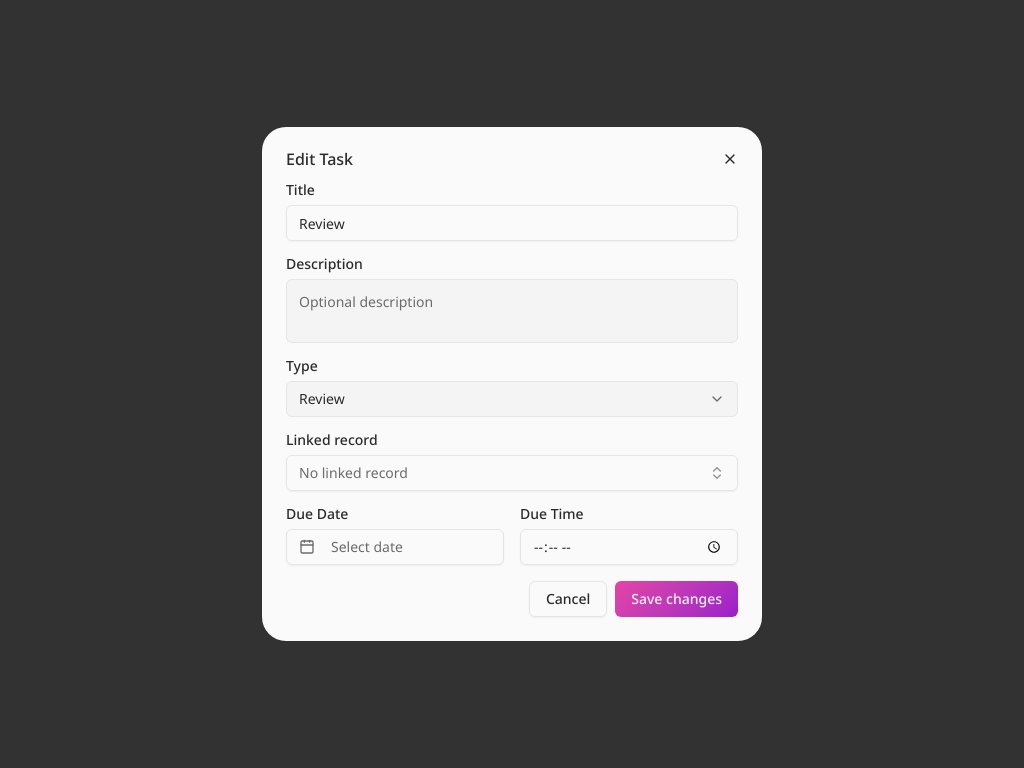
it: TaskEditModal related record › preserves edited values and shows a failed save
Replace the text in the field labelled "Title" with "Updated review" at (512, 223), box 286,205 -> 738,241
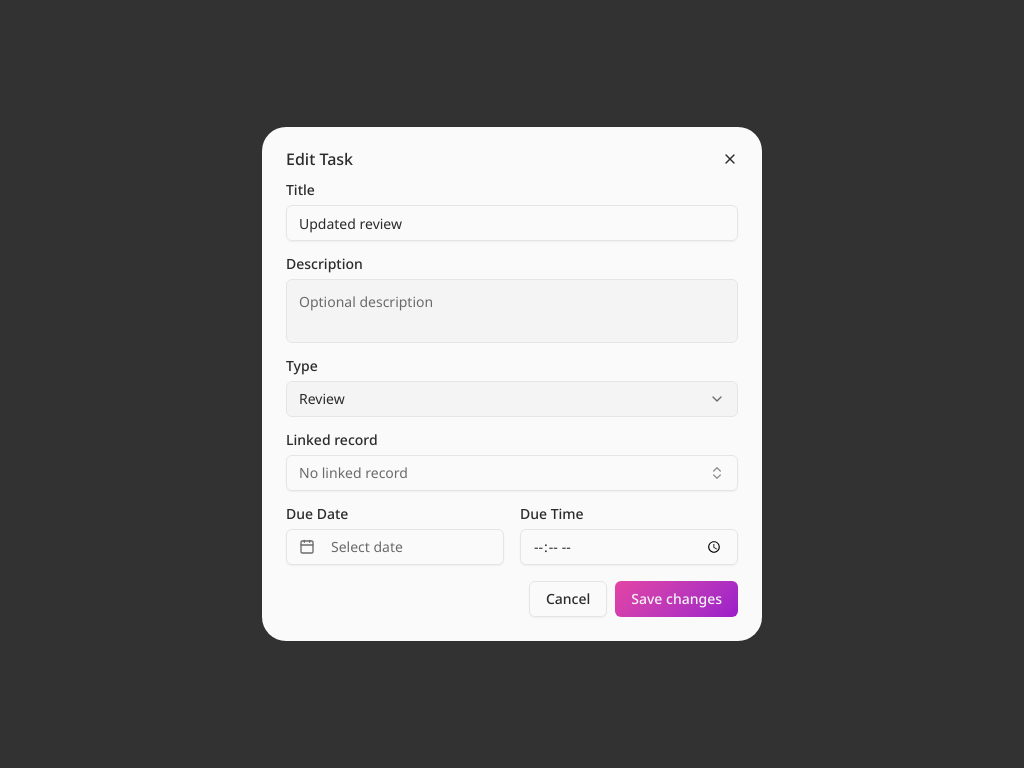
Click the button "Save changes" at (677, 599), box 615,581 -> 738,617
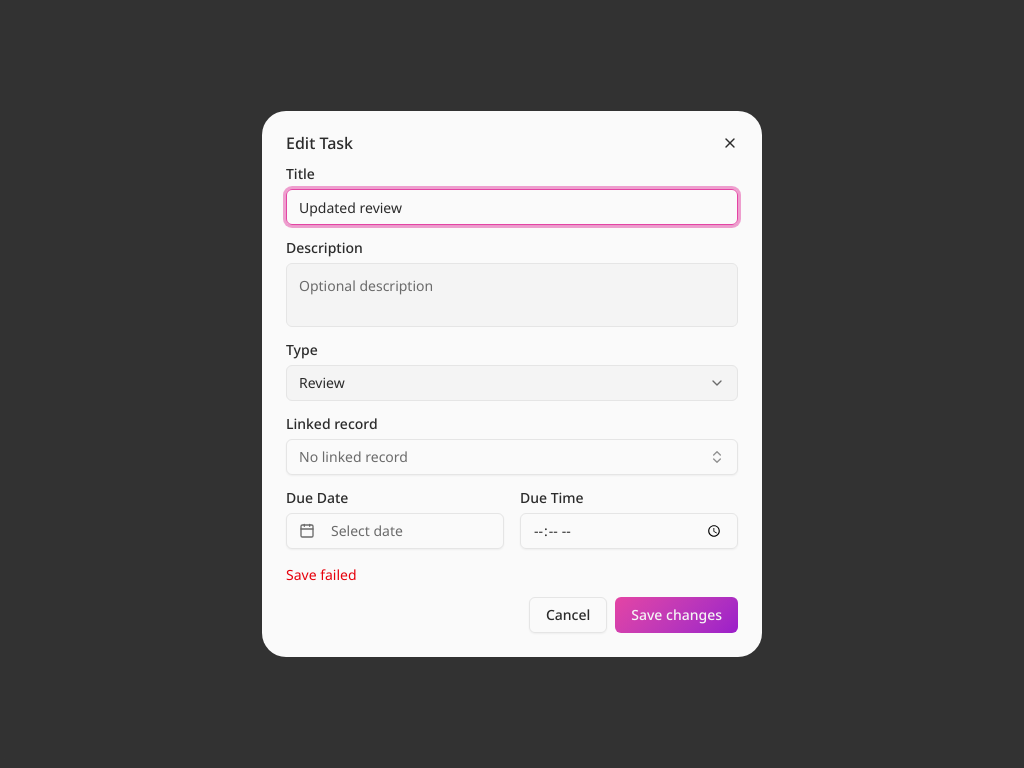
expect the message reads "Save failed": met, box 286,565 -> 357,584
